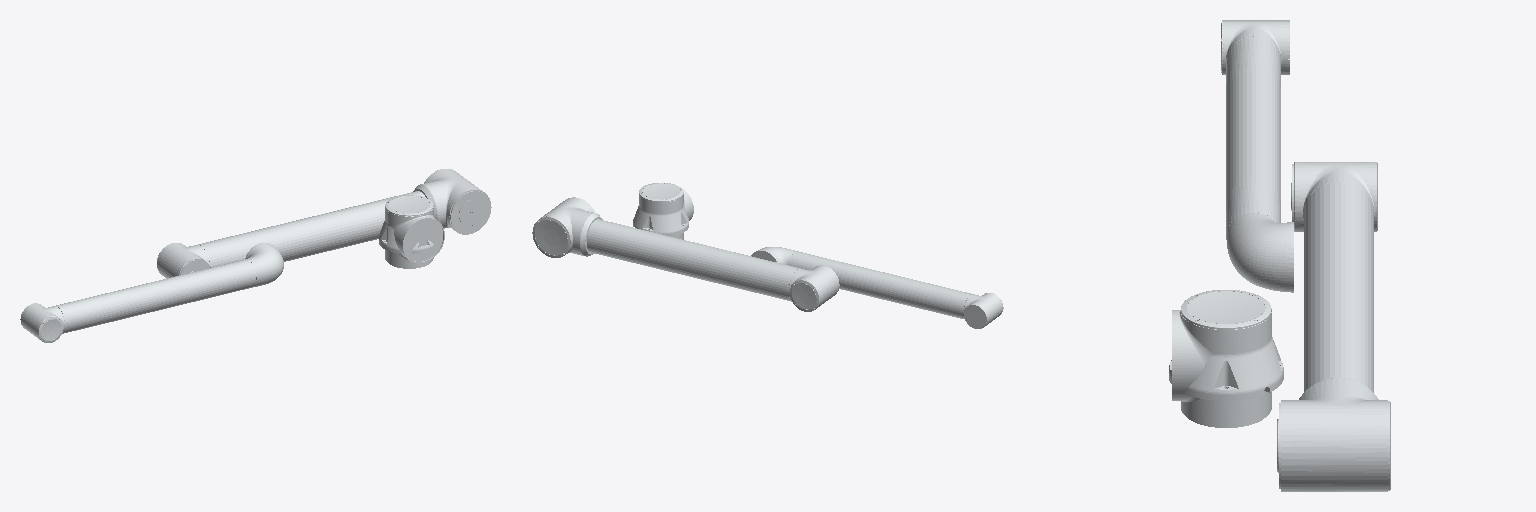
URDF robot description (fairino5_v6_robot):
<?xml version='1.0' encoding='utf-8'?>
<robot name="fairino5_v6_robot">
  <link name="base_link">
    <inertial>
      <origin xyz="-0.00031896 -0.00029673 0.042463" rpy="0 0 0" />
      <mass value="1.6185" />
      <inertia ixx="0.0030836" ixy="1.5354E-05" ixz="-1.9315E-05" iyy="0.0030825" iyz="-1.7918E-05" izz="0.0045209" />
    </inertial>
    <visual>
      <origin xyz="0 0 0" rpy="0 0 0" />
      <geometry>
        <mesh filename="meshes/fr5wml/rotated/base_link.STL" />
      </geometry>
      <material name="">
        <color rgba="0.89804 0.91765 0.92941 1" />
      </material>
    </visual>
    <collision>
      <origin xyz="0 0 0" rpy="0 0 0" />
      <geometry>
        <mesh filename="meshes/fr5wml/rotated/base_link.STL" />
      </geometry>
    </collision>
  </link>
  <link name="shoulder_link">
    <inertial>
      <origin xyz="5.0029E-07 -0.0040922 0.14629" rpy="0 0 0" />
      <mass value="4.3771" />
      <inertia ixx="0.010731" ixy="-8.0587E-09" ixz="-3.6773E-08" iyy="0.010408" iyz="0.00012853" izz="0.0081793" />
    </inertial>
    <visual>
      <origin xyz="0 0 0" rpy="0 0 0" />
      <geometry>
        <mesh filename="meshes/fr5wml/rotated/shoulder_link.STL" />
      </geometry>
      <material name="">
        <color rgba="0.89804 0.91765 0.92941 1" />
      </material>
    </visual>
    <collision>
      <origin xyz="0 0 0" rpy="0 0 0" />
      <geometry>
        <mesh filename="meshes/fr5wml/rotated/shoulder_link.STL" />
      </geometry>
    </collision>
  </link>
  <joint name="j1" type="revolute">
    <origin xyz="0 0 0" rpy="0 0 0" />
    <parent link="base_link" />
    <child link="shoulder_link" />
    <axis xyz="0 0 1" />
    <limit lower="-3.0543" upper="3.0543" effort="150" velocity="3.15" />
    <calibration rising="0" falling="0" />
    <dynamics damping="0" friction="0" />
    <safety_controller soft_lower_limit="-3.0543" soft_upper_limit="3.0543" k_position="15" k_velocity="10" />
  </joint>
  <link name="upperarm_link">
    <inertial>
      <origin xyz="-0.2125 -5.7643E-09 0.1346" rpy="0 0 0" />
      <mass value="14.458" />
      <inertia ixx="0.028392" ixy="-1.337E-07" ixz="-3.9895E-09" iyy="0.4559" iyz="4.214E-08" izz="0.44974" />
    </inertial>
    <visual>
      <origin xyz="0 0 0" rpy="0 0 0" />
      <geometry>
        <mesh filename="meshes/fr5wml/rotated/upperarm_link.STL" />
      </geometry>
      <material name="">
        <color rgba="0.89804 0.91765 0.92941 1" />
      </material>
    </visual>
    <collision>
      <origin xyz="0 0 0" rpy="0 0 0" />
      <geometry>
        <mesh filename="meshes/fr5wml/rotated/upperarm_link.STL" />
      </geometry>
    </collision>
  </link>
  <joint name="j2" type="revolute">
    <origin xyz="0 0 0.18" rpy="1.5708 0 0" />
    <parent link="shoulder_link" />
    <child link="upperarm_link" />
    <axis xyz="0 0 1" />
    <limit lower="-4.6251" upper="1.4835" effort="150" velocity="3.15" />
    <calibration rising="0" falling="0" />
    <dynamics damping="0" friction="0" />
    <safety_controller soft_lower_limit="-4.6251" soft_upper_limit="1.4835" k_position="15" k_velocity="10" />
  </joint>
  <link name="forearm_link">
    <inertial>
      <origin xyz="-0.18793 -8.4503E-07 0.0066357" rpy="0 0 0" />
      <mass value="7.6737" />
      <inertia ixx="0.0085096" ixy="2.1613E-06" ixz="-0.0068678" iyy="0.16971" iyz="3.7086E-08" izz="0.16854" />
    </inertial>
    <visual>
      <origin xyz="0 0 0" rpy="0 0 0" />
      <geometry>
        <mesh filename="meshes/fr5wml/rotated/forearm_link.STL" />
      </geometry>
      <material name="">
        <color rgba="0.89804 0.91765 0.92941 1" />
      </material>
    </visual>
    <collision>
      <origin xyz="0 0 0" rpy="0 0 0" />
      <geometry>
        <mesh filename="meshes/fr5wml/rotated/forearm_link.STL" />
      </geometry>
    </collision>
  </link>
  <joint name="j3" type="revolute">
    <origin xyz="-0.97 0 0" rpy="0 0 0" />
    <parent link="upperarm_link" />
    <child link="forearm_link" />
    <axis xyz="0 0 1" />
    <limit lower="-2.8274" upper="2.8274" effort="150" velocity="3.15" />
    <calibration rising="0" falling="0" />
    <dynamics damping="0" friction="0" />
    <safety_controller soft_lower_limit="-2.8274" soft_upper_limit="2.8274" k_position="15" k_velocity="10" />
  </joint>
  <link name="wrist1_link">
    <inertial>
      <origin xyz="4.98E-07 -0.003754 0.097155" rpy="0 0 0" />
      <mass value="1.6266" />
      <inertia ixx="0.00216" ixy="4.888E-09" ixz="3.1528E-08" iyy="0.0015455" iyz="3.7678E-05" izz="0.0019902" />
    </inertial>
    <visual>
      <origin xyz="0 0 0" rpy="0 0 0" />
      <geometry>
        <mesh filename="meshes/fr5wml/rotated/wrist1_link.STL" />
      </geometry>
      <material name="">
        <color rgba="0.89804 0.91765 0.92941 1" />
      </material>
    </visual>
    <collision>
      <origin xyz="0 0 0" rpy="0 0 0" />
      <geometry>
        <mesh filename="meshes/fr5wml/rotated/wrist1_link.STL" />
      </geometry>
    </collision>
  </link>
  <joint name="j4" type="revolute">
    <origin xyz="-0.816 0 0" rpy="0 0 0" />
    <parent link="forearm_link" />
    <child link="wrist1_link" />
    <axis xyz="0 0 1" />
    <limit lower="-4.6251" upper="1.4835" effort="28" velocity="3.2" />
    <calibration rising="0" falling="0" />
    <dynamics damping="0" friction="0" />
    <safety_controller soft_lower_limit="-4.6251" soft_upper_limit="1.4835" k_position="15" k_velocity="10" />
  </joint>
  <link name="wrist2_link">
    <inertial>
      <origin xyz="-4.5588E-07 0.0038617 0.098257" rpy="0 0 0" />
      <mass value="1.5812" />
      <inertia ixx="0.0020612" ixy="8.7064E-09" ixz="-3.4742E-08" iyy="0.0014477" iyz="-2.8534E-05" izz="0.0019573" />
    </inertial>
    <visual>
      <origin xyz="0 0 0" rpy="0 0 0" />
      <geometry>
        <mesh filename="meshes/fr5wml/rotated/wrist2_link.STL" />
      </geometry>
      <material name="">
        <color rgba="0.89804 0.91765 0.92941 1" />
      </material>
    </visual>
    <collision>
      <origin xyz="0 0 0" rpy="0 0 0" />
      <geometry>
        <mesh filename="meshes/fr5wml/rotated/wrist2_link.STL" />
      </geometry>
    </collision>
  </link>
  <joint name="j5" type="revolute">
    <origin xyz="0 0 0.114" rpy="1.5708 0 0" />
    <parent link="wrist1_link" />
    <child link="wrist2_link" />
    <axis xyz="0 0 1" />
    <limit lower="-3.0543" upper="3.0543" effort="28" velocity="3.2" />
    <calibration rising="0" falling="0" />
    <dynamics damping="0" friction="0" />
    <safety_controller soft_lower_limit="-3.0543" soft_upper_limit="3.0543" k_position="15" k_velocity="10" />
  </joint>
  <link name="wrist3_link">
    <inertial>
      <origin xyz="7.7496E-05 1.7751E-05 0.076122" rpy="0 0 0" />
      <mass value="0.52542" />
      <inertia ixx="0.00027721" ixy="-1.8677E-09" ixz="-1.188E-07" iyy="0.00027839" iyz="2.2607E-07" izz="0.00041605" />
    </inertial>
    <visual>
      <origin xyz="0 0 0" rpy="0 0 0" />
      <geometry>
        <mesh filename="meshes/fr5wml/rotated/wrist3_link.STL" />
      </geometry>
      <material name="">
        <color rgba="0.89804 0.91765 0.92941 1" />
      </material>
    </visual>
    <collision>
      <origin xyz="0 0 0" rpy="0 0 0" />
      <geometry>
        <mesh filename="meshes/fr5wml/rotated/wrist3_link.STL" />
      </geometry>
    </collision>
  </link>
  <joint name="j6" type="revolute">
    <origin xyz="0 0 0.106" rpy="-1.5708 0 0" />
    <parent link="wrist2_link" />
    <child link="wrist3_link" />
    <axis xyz="0 0 1" />
    <limit lower="-3.0543" upper="3.0543" effort="28" velocity="3.2" />
    <calibration rising="0" falling="0" />
    <dynamics damping="0" friction="0" />
    <safety_controller soft_lower_limit="-3.0543" soft_upper_limit="3.0543" k_position="15" k_velocity="10" />
  </joint>
</robot>

--- Facts derived from the render (not from the file) ---
Views: 3 orthographic renders of the robot side by side, from view 1: azimuth 30°, elevation 25°; view 2: azimuth 150°, elevation 25°; view 3: azimuth 270°, elevation 25°.
Robot: fairino5_v6_robot — 7 links, 6 joints (6 revolute); root link base_link; default pose: every joint at zero.
Visible links, largest first — view 1: upperarm_link, forearm_link, shoulder_link, base_link; view 2: upperarm_link, forearm_link, shoulder_link, base_link; view 3: upperarm_link, forearm_link, shoulder_link, base_link.
Boxes of the visible links, box(x1,y1,x2,y2) form: upperarm_link: box(157, 169, 491, 278); forearm_link: box(20, 243, 283, 342); shoulder_link: box(385, 195, 444, 268); base_link: box(379, 220, 434, 253); upperarm_link: box(532, 197, 839, 311); forearm_link: box(751, 247, 1003, 328); shoulder_link: box(639, 183, 693, 239); base_link: box(633, 204, 688, 236); upperarm_link: box(1277, 162, 1390, 491); forearm_link: box(1221, 20, 1293, 292); shoulder_link: box(1172, 290, 1271, 427); base_link: box(1169, 337, 1283, 400).
Bounding box of the posed robot: 1671 × 367 × 201 m (x, y, z).
Meshes: 7 distinct files referenced, 7 mesh visuals loaded (7 binary STL).
